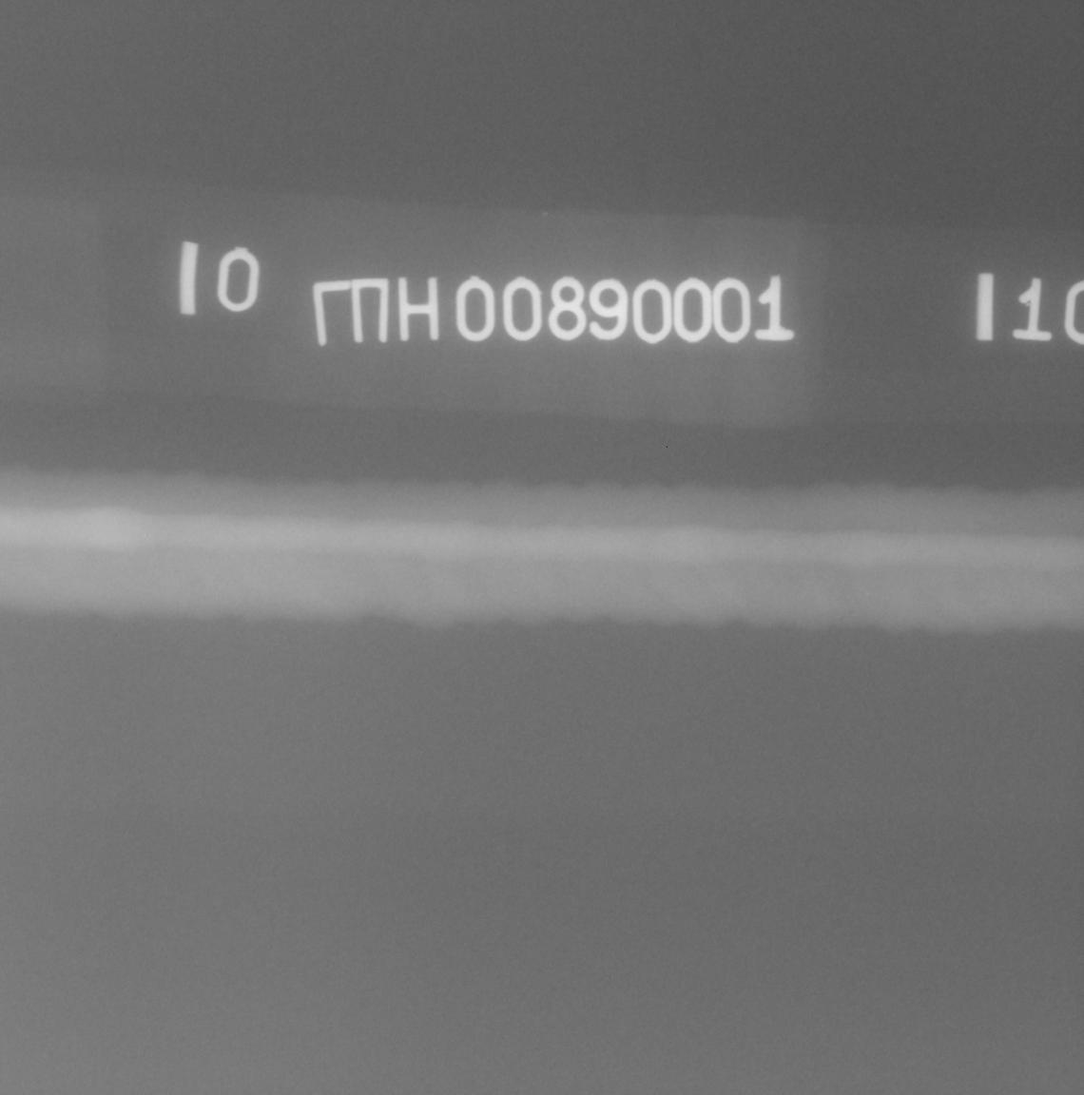Pore/Porosity: (1060, 513, 1065, 519)
